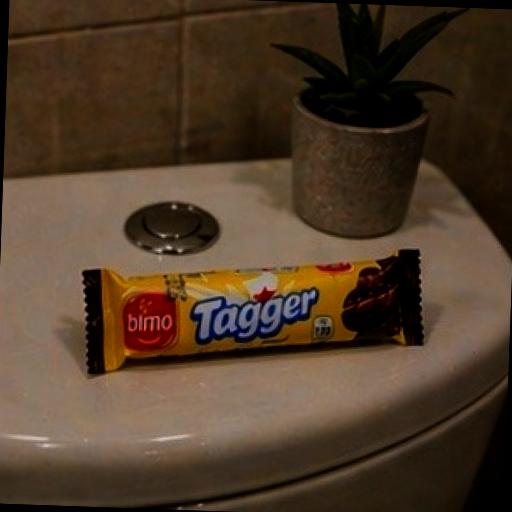tagger: (32, 132, 458, 410)
